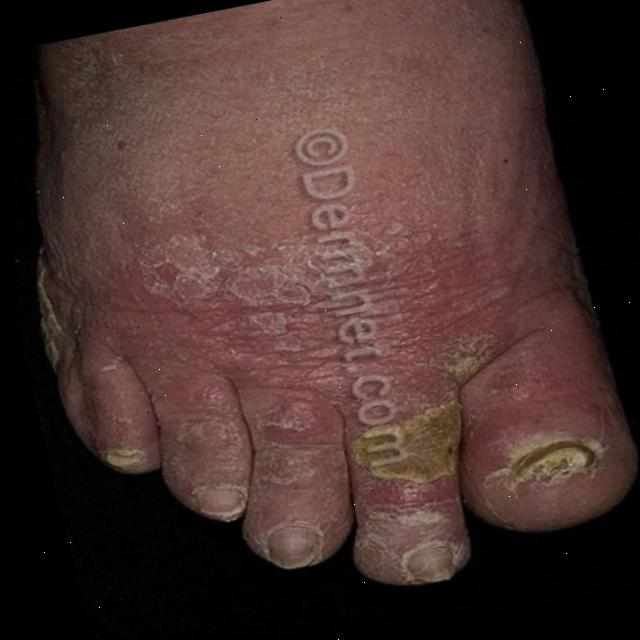Eczema: (14, 159, 630, 640)
